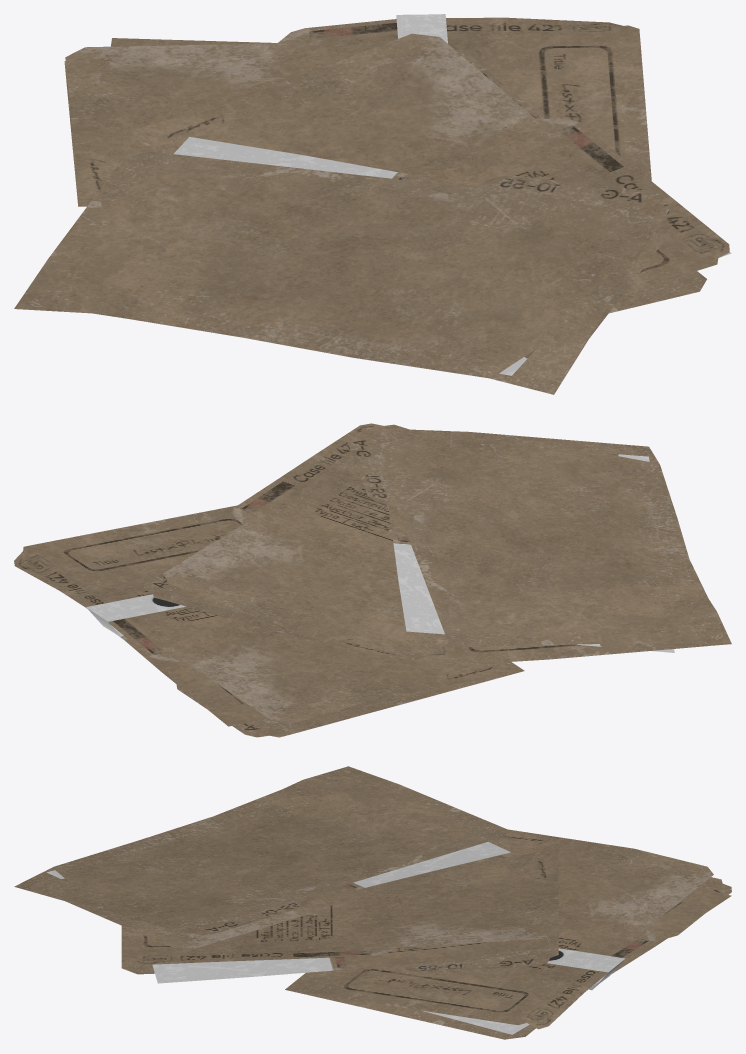
File: SM_File_Pocket5.fbx
The picture shows the model from 3 angles, top to bottom: view 1: azimuth 30°, elevation 25°; view 2: azimuth 150°, elevation 25°; view 3: azimuth 270°, elevation 25°; orthographic projection. The views are drawn at different scales.
Visible parts, largest first — view 1: SM_File_Pocket5_LOD0; view 2: SM_File_Pocket5_LOD0; view 3: SM_File_Pocket5_LOD0.
Part boxes in pixels (x1=…): SM_File_Pocket5_LOD0: x1=14, y1=14, x2=731, y2=394; SM_File_Pocket5_LOD0: x1=14, y1=423, x2=731, y2=737; SM_File_Pocket5_LOD0: x1=14, y1=766, x2=731, y2=1039.
Size of the model in its own units: 69.95 by 77.74 by 5.21.
Materials: 1 (1 with a texture image).
